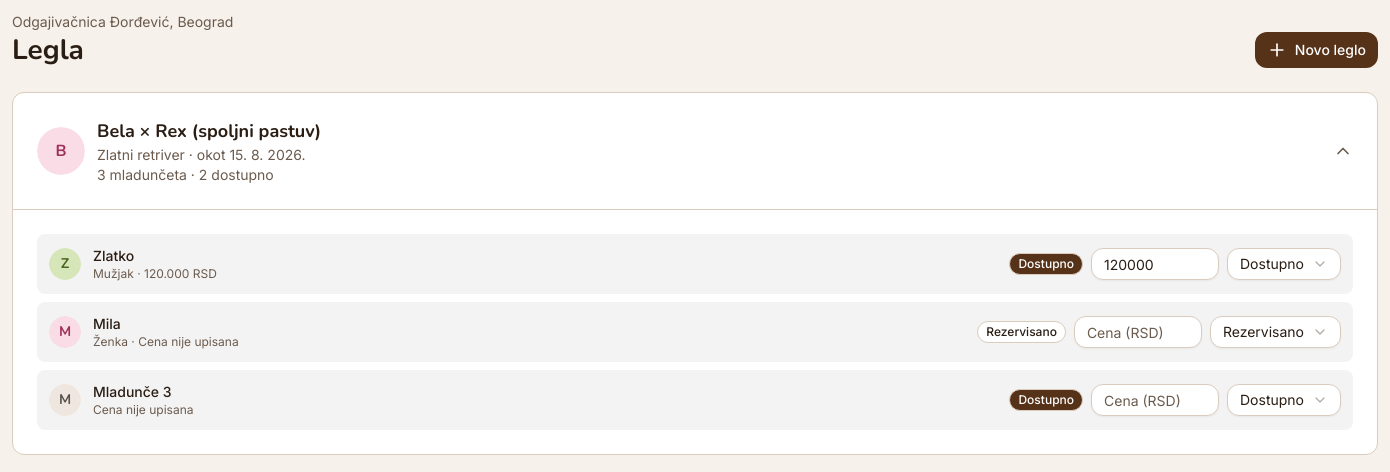
it: S22 — default (EP-61 list) › changes an offspring's status through EP-61 and updates the badge and count
What coordinates should you click on to do the following:
click the dropdown named "Status za Zlatko"
I would click on:
 (1284, 264)
Its box is [1227,248,1341,280].
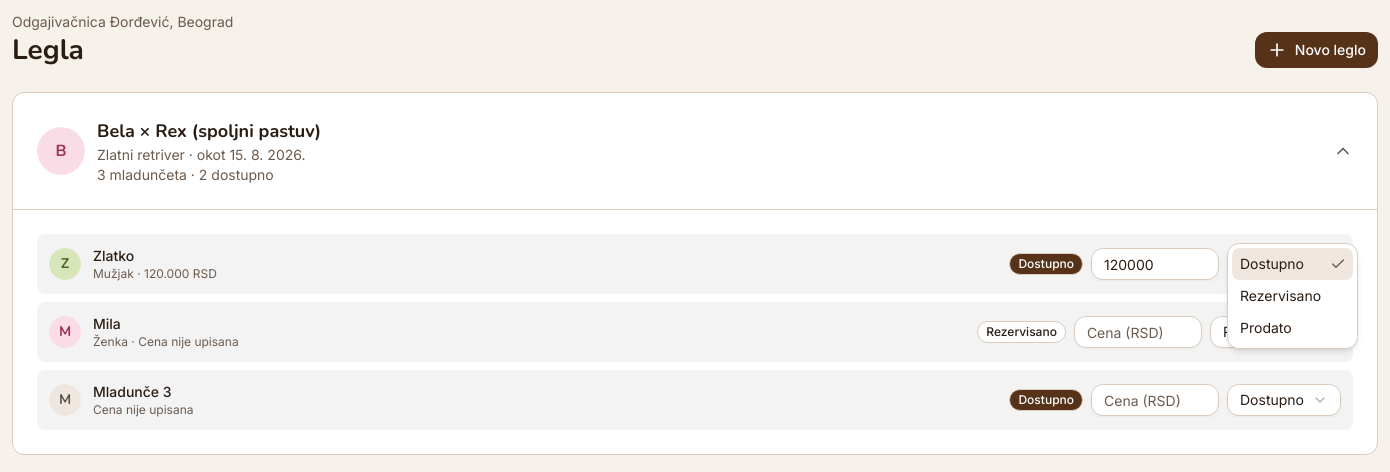
What coordinates should you click on to do the following:
click the option "Prodato"
I would click on:
 (1266, 328)
Its box is [1240,319,1292,336].
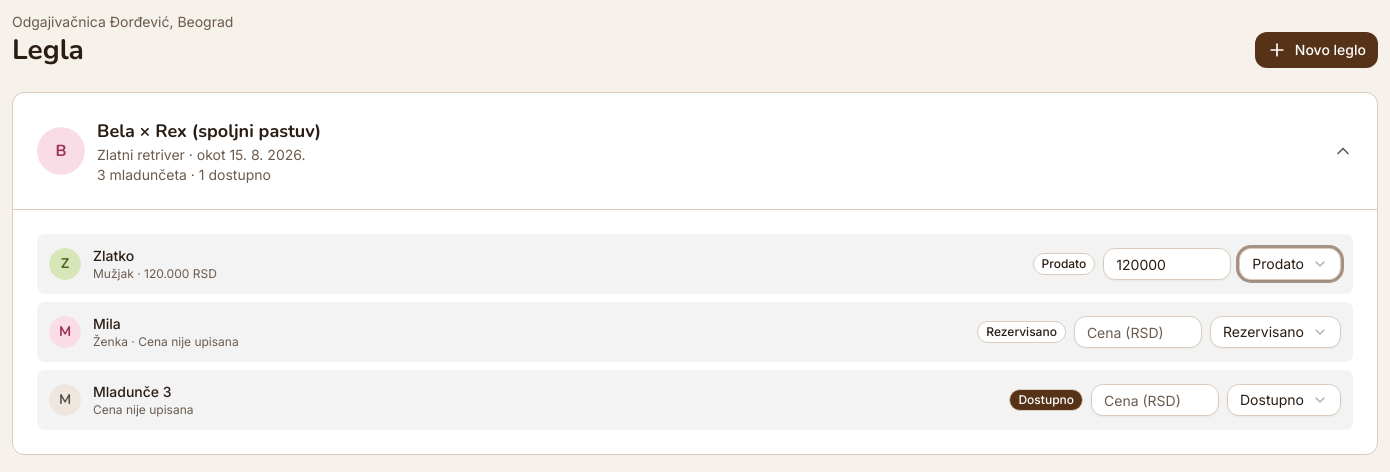
Now the text "3 mladunčeta · 1 dostupno" is shown, box [97,166,271,183]
